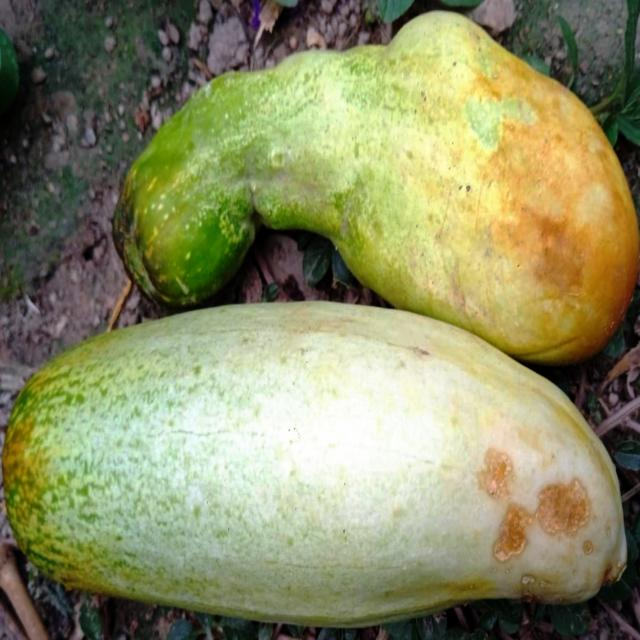Belly-Rot: (478, 436, 600, 604), (527, 200, 590, 294)
